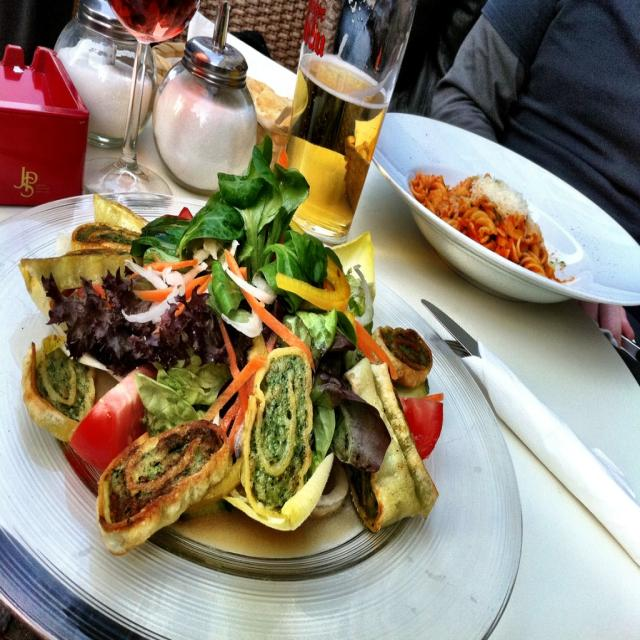Box: (0, 45, 89, 205)
